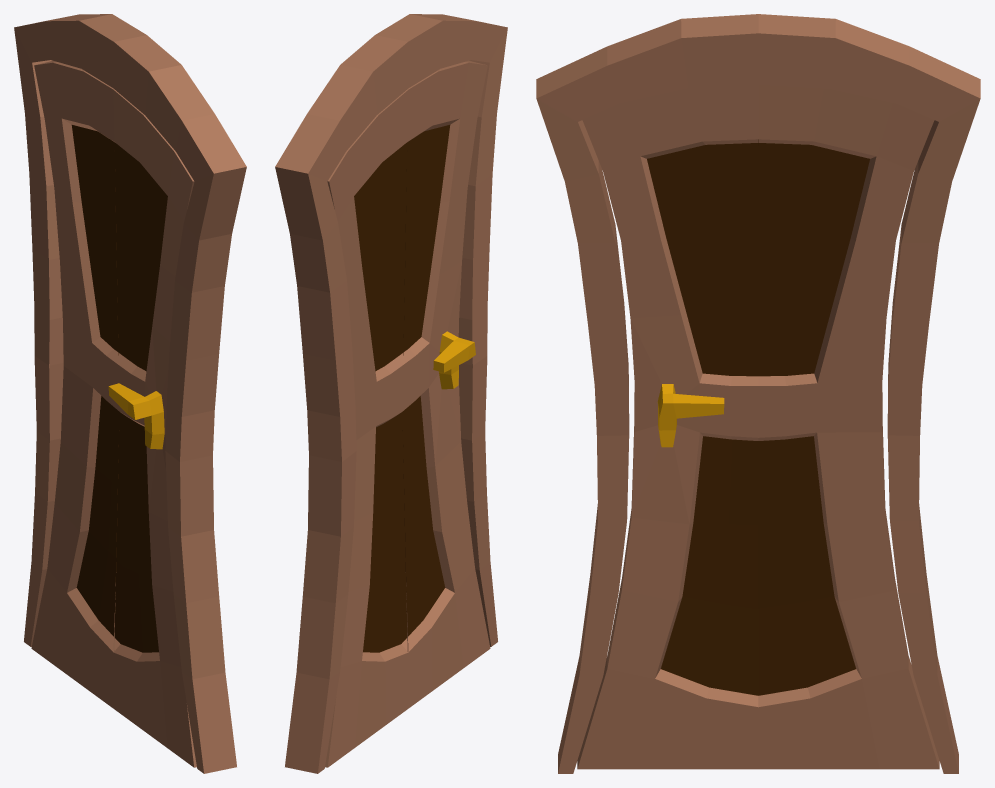
The model's file is Light_Door_Model.fbx.
3 renders of one model, left to right at view 1: azimuth 30°, elevation 25°; view 2: azimuth 150°, elevation 25°; view 3: azimuth 270°, elevation 25°, orthographic. The views are drawn at different scales.
Parts seen in each view (by area): view 1: Door, Door Frame; view 2: Door, Door Frame; view 3: Door, Door Frame.
Part boxes in pixels (box(x1,y1,x2,y2)): Door: box(31, 60, 196, 767); Door Frame: box(14, 14, 246, 773); Door: box(325, 60, 490, 767); Door Frame: box(275, 14, 507, 773); Door: box(577, 84, 939, 769); Door Frame: box(536, 14, 980, 773).
Bounding box in the file's own units: 228 × 419 × 48.35.
